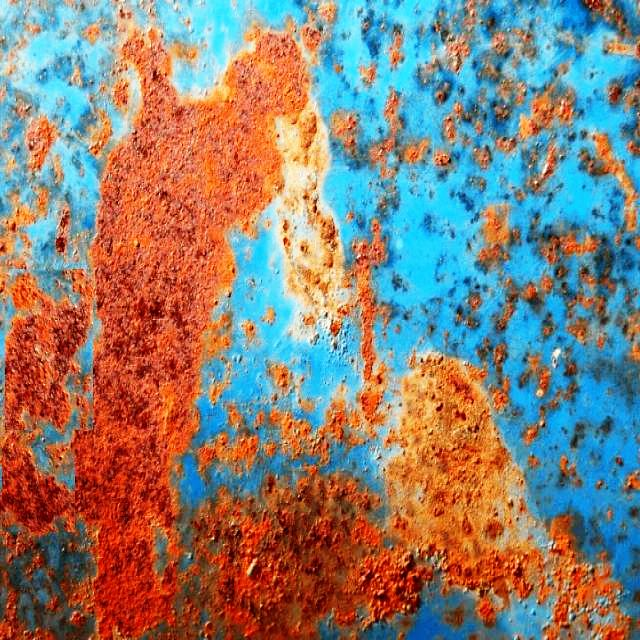Corrosion: (75, 11, 310, 640), (76, 27, 309, 640), (193, 356, 552, 640), (0, 274, 91, 534), (277, 103, 346, 342), (545, 518, 633, 640), (594, 133, 640, 230), (352, 240, 382, 384), (324, 378, 386, 446), (270, 409, 330, 466), (520, 84, 577, 138), (369, 88, 402, 178), (197, 433, 259, 476), (0, 592, 52, 640), (298, 0, 337, 62), (0, 205, 34, 272), (479, 205, 512, 270), (24, 115, 57, 172), (559, 281, 608, 318), (584, 0, 633, 36), (545, 234, 601, 264), (528, 143, 559, 192), (493, 277, 520, 332), (495, 77, 528, 122), (0, 522, 34, 564), (461, 51, 504, 84), (608, 77, 640, 120), (331, 109, 359, 156), (203, 361, 231, 406), (88, 108, 112, 156), (453, 0, 486, 32), (447, 35, 471, 72), (268, 364, 293, 396), (55, 203, 70, 254), (389, 24, 405, 68), (606, 39, 640, 58), (111, 77, 129, 112), (492, 378, 510, 412), (521, 353, 540, 384), (406, 138, 430, 162), (568, 318, 590, 344), (623, 127, 640, 156), (520, 117, 542, 139), (537, 368, 552, 398), (493, 31, 511, 54), (435, 80, 452, 104), (476, 146, 493, 169), (66, 63, 83, 86), (83, 23, 100, 42), (435, 150, 452, 167), (592, 330, 608, 348), (444, 116, 455, 142), (498, 138, 517, 152), (527, 285, 539, 302), (454, 102, 464, 118), (476, 120, 485, 134), (435, 152, 440, 158)
